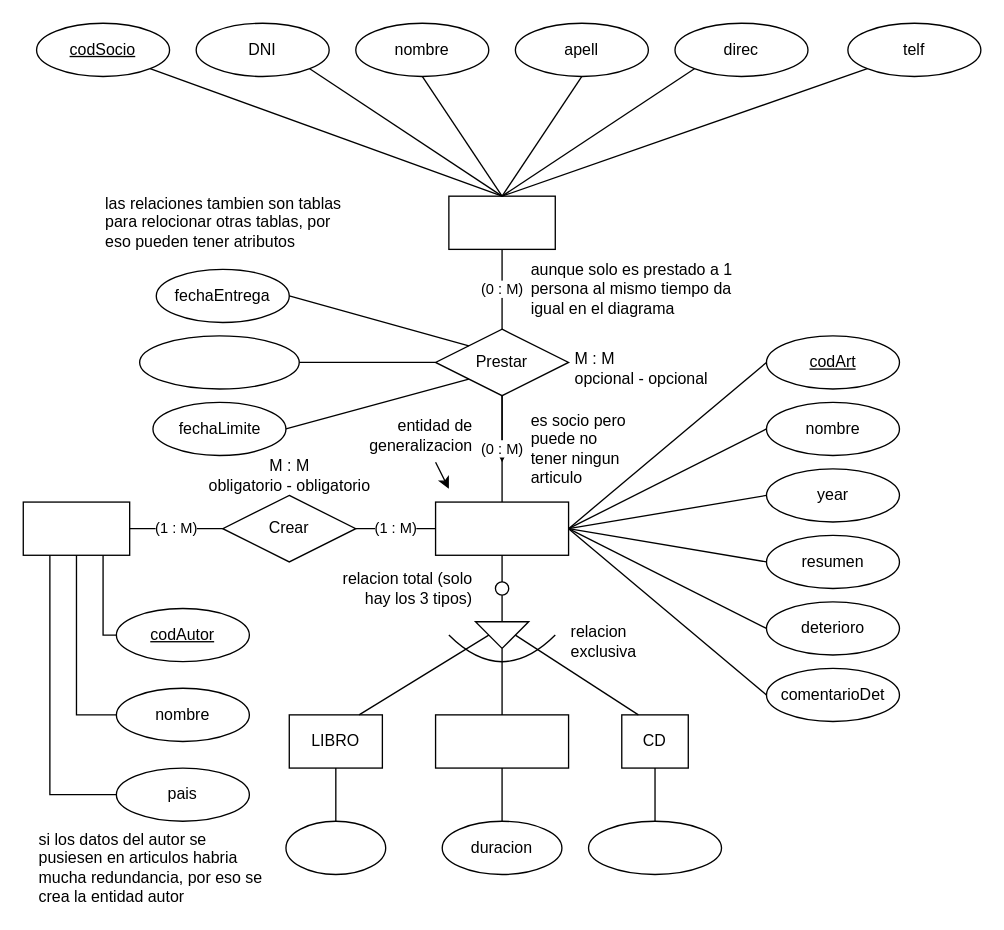
The diagram is 1004 pixels wide and 930 high, and some of its shapes have lost their labels. The shapes that lost their labels are listed below. From the top down, each one's centre as x and y in pixels, then its label:
At point 501,222: "SOCIO".
At point 218,361: "fechaDevolucion".
At point 76,528: "AUTOR".
At point 501,528: "ARTICULO".
At point 501,741: "PELICULA".
At point 335,847: "nPag".
At point 654,847: "nCanciones".
